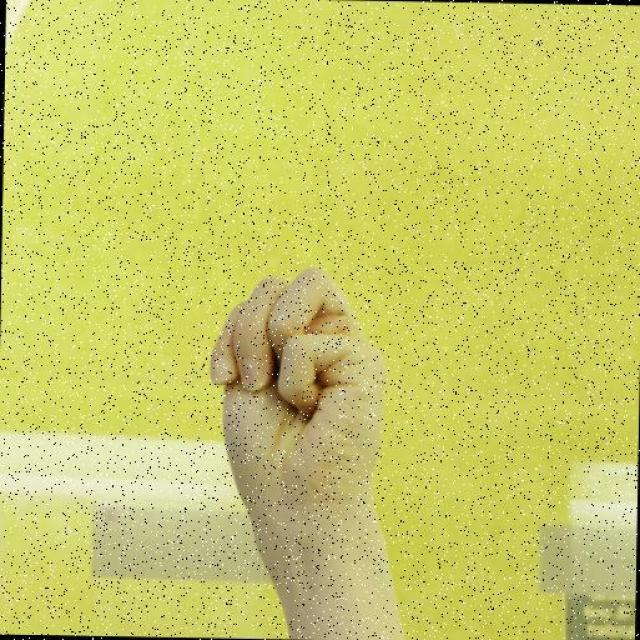M: (204, 261, 391, 524)
